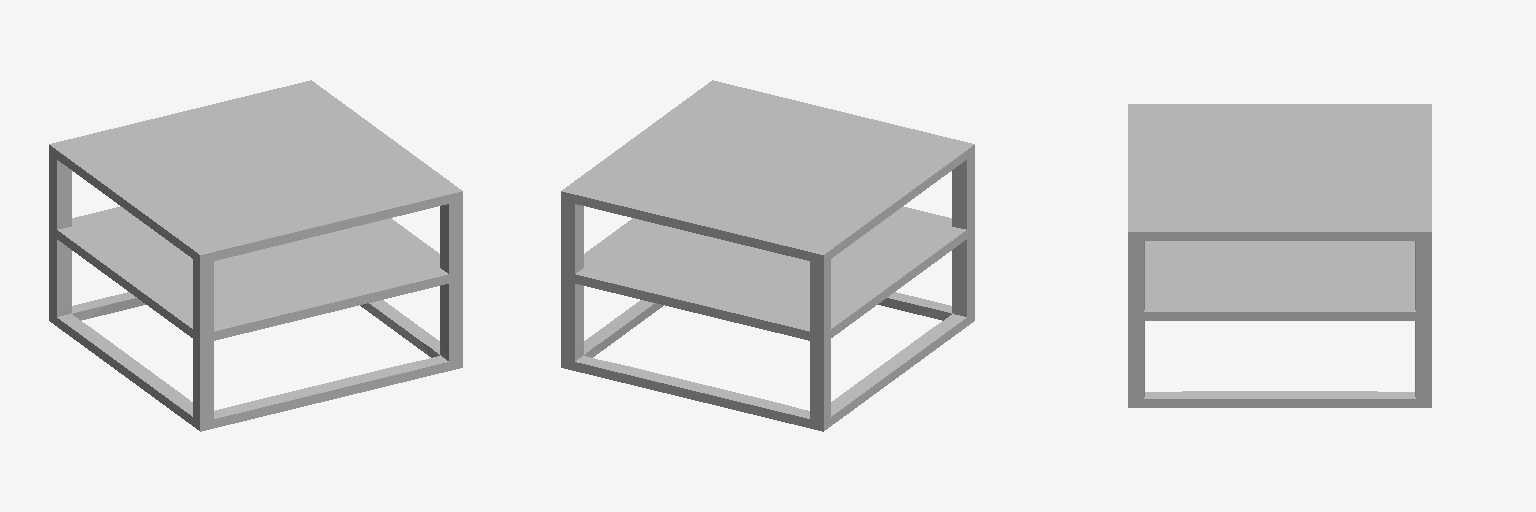
Rendered from tablebasse1.obj.
The picture shows the model from 3 angles: view 1: azimuth 30°, elevation 25°; view 2: azimuth 150°, elevation 25°; view 3: azimuth 270°, elevation 25°; orthographic projection.
Visible parts, largest first — view 1: Cube_Cube.001; view 2: Cube_Cube.001; view 3: Cube_Cube.001.
Boxes of the visible parts, <box> form: Cube_Cube.001: <box>49,80,462,431</box>; Cube_Cube.001: <box>561,80,974,431</box>; Cube_Cube.001: <box>1128,104,1431,407</box>.
Size of the model in its own units: 2 by 1.28 by 2.